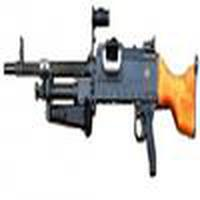gun: (4, 42, 199, 171)
